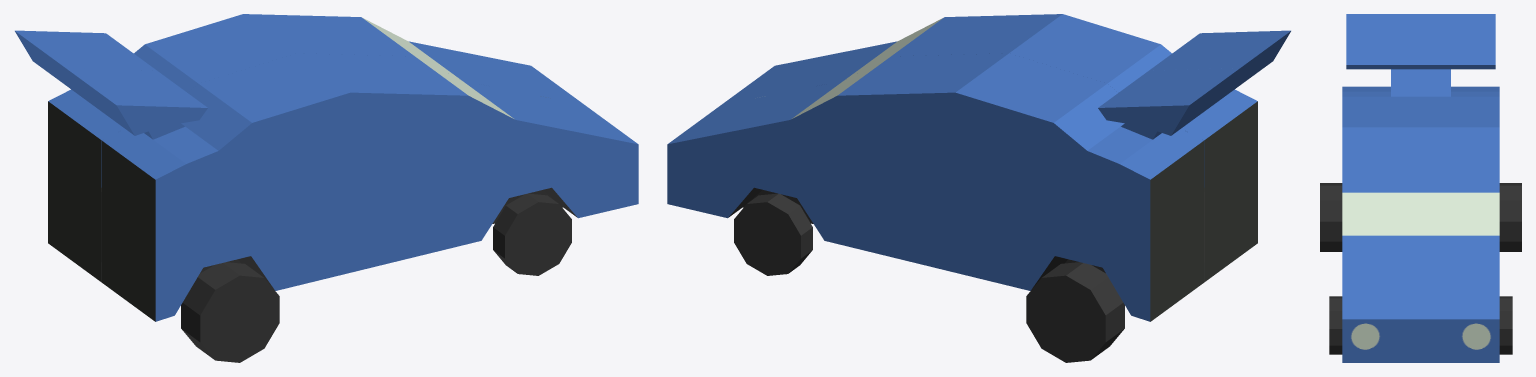
File: voiture.fbx
The picture shows the model from 3 angles, left to right: view 1: azimuth 30°, elevation 25°; view 2: azimuth 150°, elevation 25°; view 3: azimuth 270°, elevation 25°; orthographic projection. The views are drawn at different scales.
Parts seen in each view (by area): view 1: 1, 2; view 2: 1, 2; view 3: 1, 2.
Part boxes in pixels (x1,y1,x2,y2): 1: (15,14,638,321); 2: (48,101,577,362); 1: (667,14,1290,321); 2: (728,101,1257,362); 1: (1342,14,1499,362); 2: (1320,183,1521,354).
Size of the model in its own units: 406 by 202 by 187.
3 materials, 1 textured.
